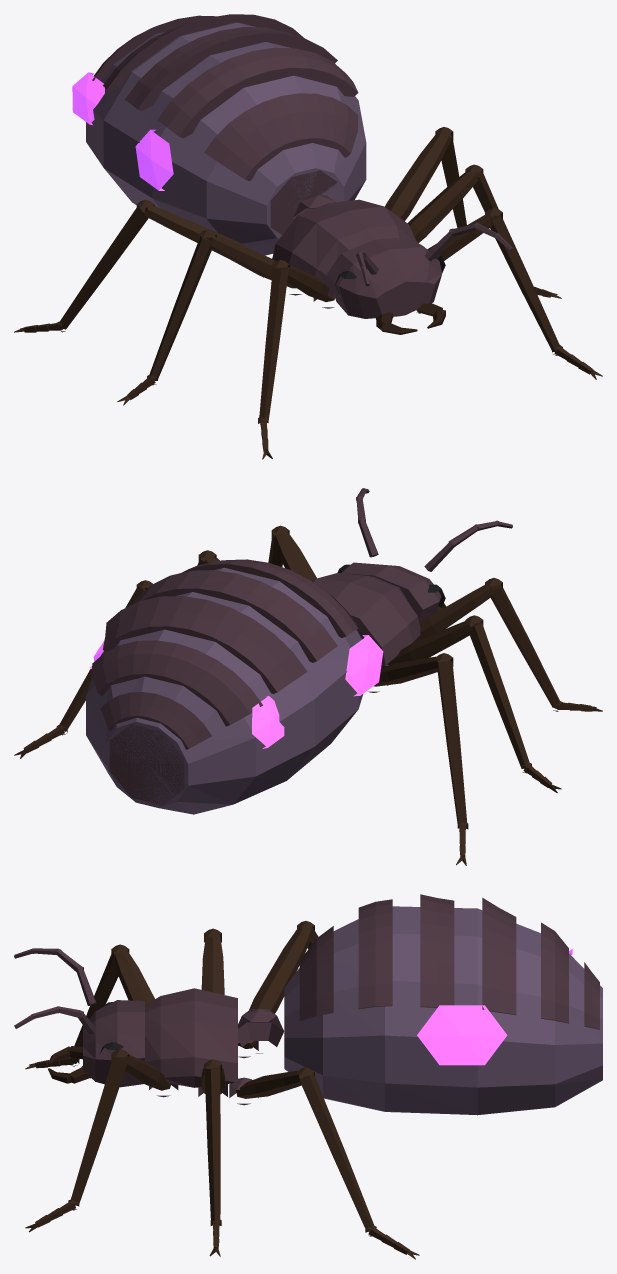
The model's file is absorber.glb.
3 renders of one model, top to bottom at view 1: azimuth 30°, elevation 25°; view 2: azimuth 150°, elevation 25°; view 3: azimuth 270°, elevation 25°, orthographic.
Visible parts, largest first — view 1: abs_membrane, BeetleSternite_03, HeadBase001, ThoraxCore, BeetleSternite_04, BeetleSternite_05, abs_vesicle, BeetleSternite_06, Femur004, Tibia001, Tibia003, Tibia005 (+9 smaller); view 2: abs_membrane, BeetleSternite_06, BeetleSternite_07, BeetleSternite_05, ThoraxCore, BeetleBodyInner, BeetleSternite_08, abs_vesicle, BeetleSternite_04, Tibia005, HeadBase001, Tibia003 (+6 smaller); view 3: abs_membrane, ThoraxCore, abs_vesicle, BeetleSternite_05, HeadBase001, BeetleSternite_04, BeetleSternite_06, BeetleSternite_03, BeetleSternite_07, Tibia004, Femur005, Tibia002 (+7 smaller).
Part boxes in pixels (bbox=[...]): abs_membrane: bbox=[86, 22, 366, 255]; BeetleSternite_03: bbox=[204, 93, 357, 181]; HeadBase001: bbox=[327, 237, 442, 318]; ThoraxCore: bbox=[272, 195, 416, 298]; BeetleSternite_04: bbox=[157, 47, 358, 138]; BeetleSternite_05: bbox=[125, 27, 337, 110]; abs_vesicle: bbox=[72, 72, 173, 190]; BeetleSternite_06: bbox=[103, 14, 304, 91]; Femur004: bbox=[385, 133, 450, 221]; Tibia001: bbox=[259, 268, 288, 421]; Tibia003: bbox=[149, 236, 212, 380]; Tibia005: bbox=[59, 206, 148, 329]; abs_membrane: bbox=[86, 567, 363, 814]; BeetleSternite_06: bbox=[102, 596, 307, 693]; BeetleSternite_07: bbox=[91, 640, 262, 726]; BeetleSternite_05: bbox=[133, 570, 337, 662]; ThoraxCore: bbox=[312, 573, 420, 666]; BeetleBodyInner: bbox=[109, 724, 184, 804]; BeetleSternite_08: bbox=[100, 692, 211, 749]; abs_vesicle: bbox=[89, 635, 383, 748]; BeetleSternite_04: bbox=[181, 559, 358, 637]; Tibia005: bbox=[437, 661, 467, 827]; HeadBase001: bbox=[341, 562, 441, 623]; Tibia003: bbox=[469, 622, 530, 768]; abs_membrane: bbox=[284, 906, 602, 1115]; ThoraxCore: bbox=[145, 988, 283, 1087]; abs_vesicle: bbox=[417, 948, 572, 1065]; BeetleSternite_05: bbox=[420, 894, 454, 1007]; HeadBase001: bbox=[83, 1000, 144, 1087]; BeetleSternite_04: bbox=[358, 899, 392, 1008]; BeetleSternite_06: bbox=[482, 897, 516, 1015]; BeetleSternite_03: bbox=[299, 926, 333, 1021]; BeetleSternite_07: bbox=[541, 922, 568, 1023]; Tibia004: bbox=[300, 1073, 374, 1231]; Femur005: bbox=[238, 927, 312, 1048]; Tibia002: bbox=[204, 1068, 220, 1223].
Size of the model in its own units: 3.4 by 1.71 by 3.81.
